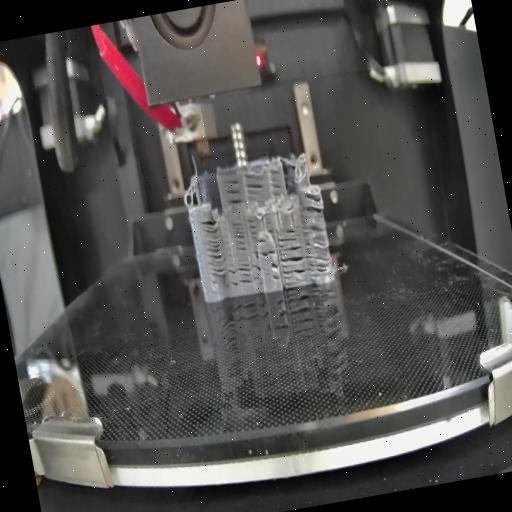cracks: (198, 215, 228, 278), (301, 222, 333, 280), (278, 242, 306, 286), (225, 261, 262, 290), (222, 175, 244, 209), (243, 172, 266, 204), (299, 189, 323, 217), (266, 166, 284, 200), (230, 220, 246, 252), (275, 223, 295, 244), (252, 244, 276, 260), (268, 258, 282, 284), (246, 217, 258, 243), (262, 211, 274, 235), (258, 237, 268, 244)
